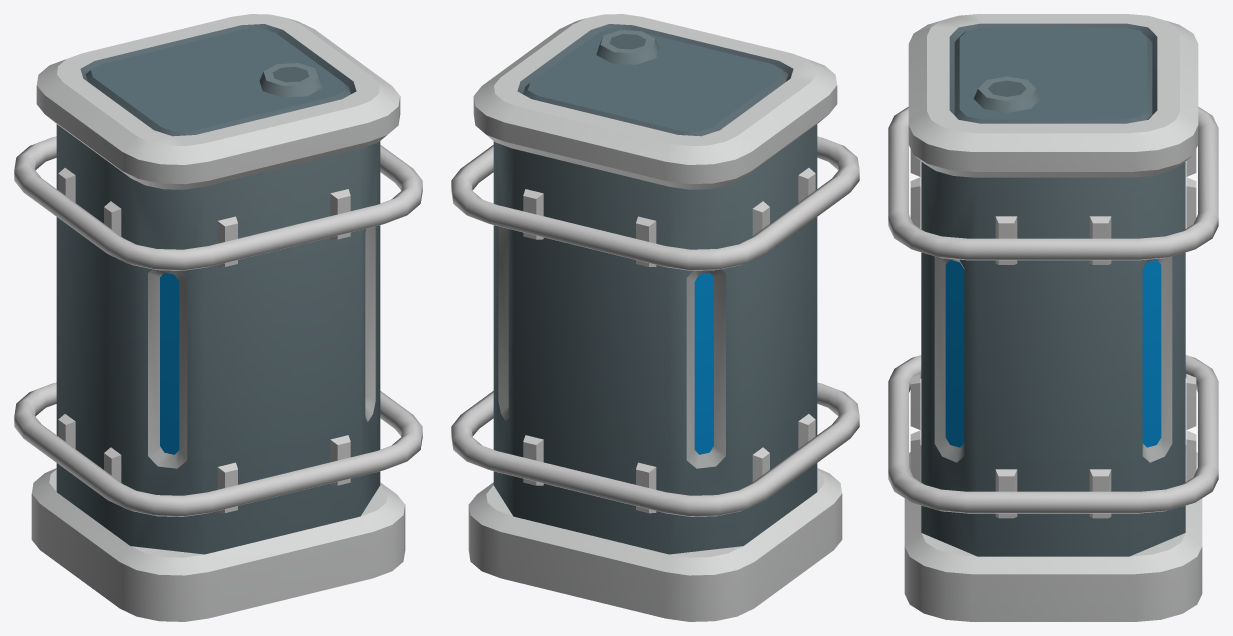
File: Barrel_006.fbx
3 views of the same model, side by side, from view 1: azimuth 30°, elevation 25°; view 2: azimuth 150°, elevation 25°; view 3: azimuth 270°, elevation 25° (orthographic). The views are drawn at different scales.
Visible parts, largest first — view 1: Barrel_006; view 2: Barrel_006; view 3: Barrel_006.
Boxes of the visible parts, x1=… form: Barrel_006: x1=14, y1=14, x2=422, y2=621; Barrel_006: x1=451, y1=14, x2=859, y2=621; Barrel_006: x1=888, y1=14, x2=1218, y2=621.
Size of the model in its own units: 64.01 by 58.21 by 95.
